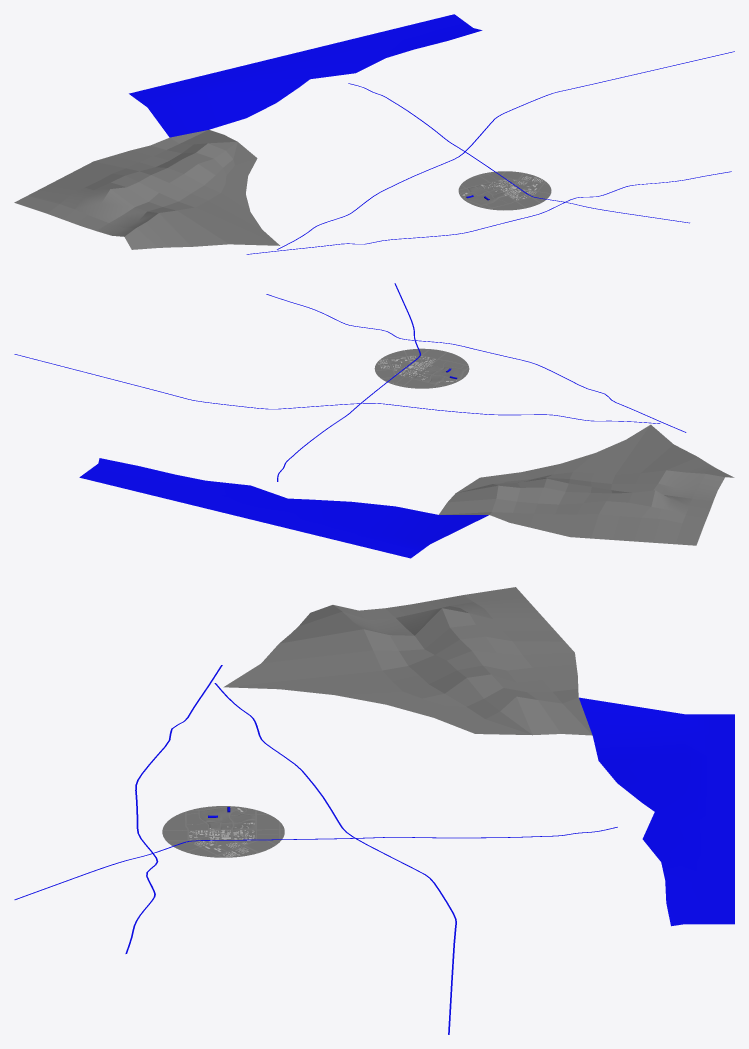
Rendered from airSpace_10.glb.
3 views of the same model, one above another, from view 1: azimuth 30°, elevation 25°; view 2: azimuth 150°, elevation 25°; view 3: azimuth 270°, elevation 25° (orthographic). The views are drawn at different scales.
Parts seen in each view (by area): view 1: mountain, ocean, lots, STREETS, fwy_405, fwy_5, fwy_55, flat_buildings; view 2: mountain, ocean, lots, fwy_405, STREETS, fwy_5; view 3: mountain, ocean, lots, STREETS, fwy_405, fwy_55.
Boxes of the visible parts, x1,y1,x2,y2 form: mountain: [14, 130, 279, 249]; ocean: [129, 14, 482, 137]; lots: [458, 171, 551, 210]; STREETS: [458, 171, 550, 209]; fwy_405: [277, 51, 734, 249]; fwy_5: [246, 171, 731, 254]; fwy_55: [348, 83, 689, 223]; flat_buildings: [462, 176, 542, 200]; mountain: [439, 424, 734, 545]; ocean: [79, 458, 488, 558]; lots: [374, 348, 469, 388]; fwy_405: [14, 354, 660, 423]; STREETS: [375, 349, 468, 388]; fwy_5: [266, 294, 686, 432]; mountain: [223, 587, 592, 735]; ocean: [579, 697, 734, 926]; lots: [163, 806, 284, 857]; STREETS: [162, 806, 284, 857]; fwy_405: [214, 683, 456, 1034]; fwy_55: [14, 827, 617, 899].
Bounding box in the file's own units: 121 × 3.41 × 82.51.
